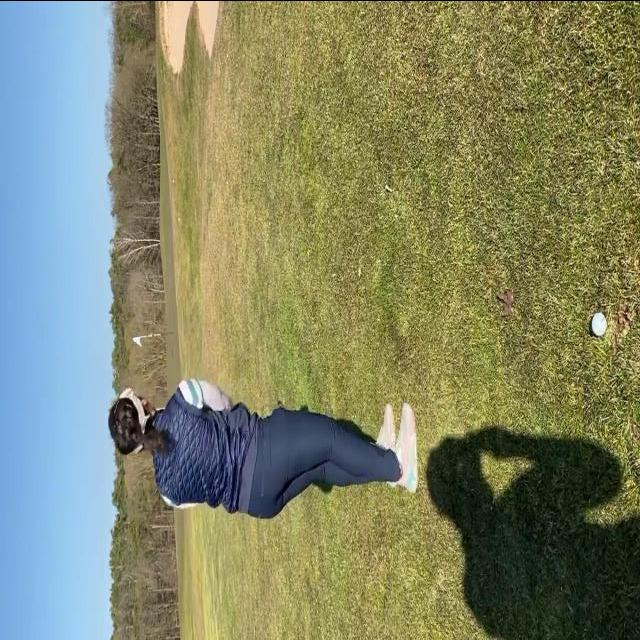golf ball: (591, 310, 607, 335)
